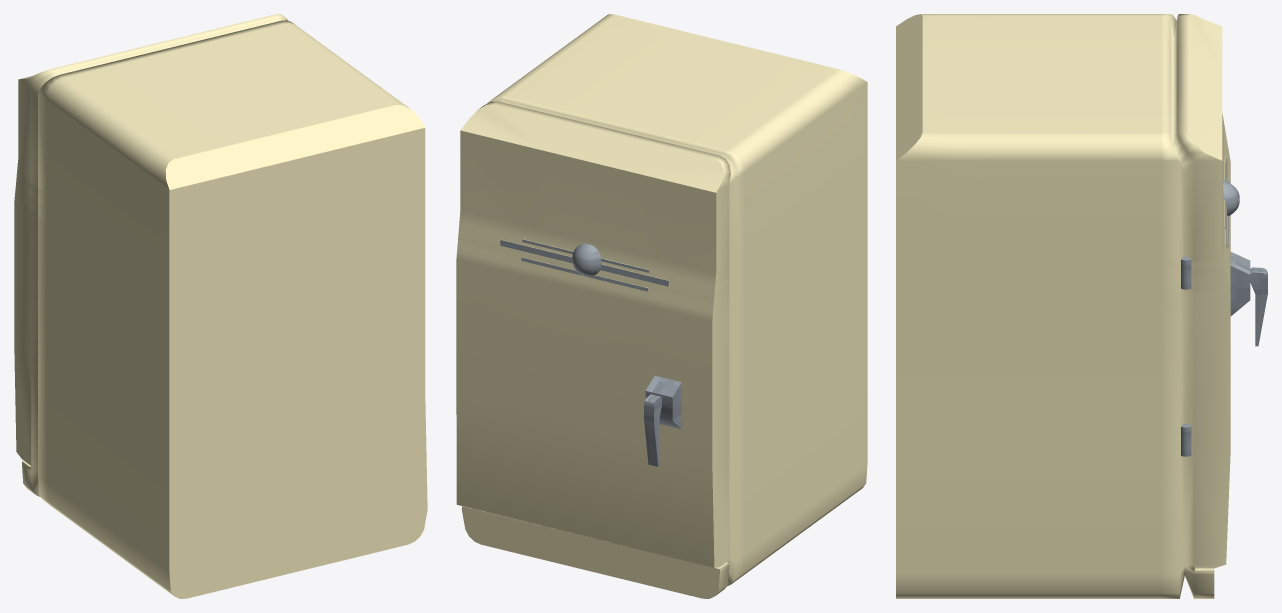
File: fridge.obj
The picture shows the model from 3 angles, left to right: view 1: azimuth 30°, elevation 25°; view 2: azimuth 150°, elevation 25°; view 3: azimuth 270°, elevation 25°; orthographic projection. The views are drawn at different scales.
Parts seen in each view (by area): view 1: fridge:refri1; view 2: fridge:refri1; view 3: fridge:refri1.
Part boxes in pixels (<box>): fridge:refri1: <box>14,14,427,598</box>; fridge:refri1: <box>456,14,867,598</box>; fridge:refri1: <box>896,14,1267,598</box>.
Bounding box in the file's own units: 5.68 × 9.06 × 6.57.
Materials: 5 (5 with a texture image).
